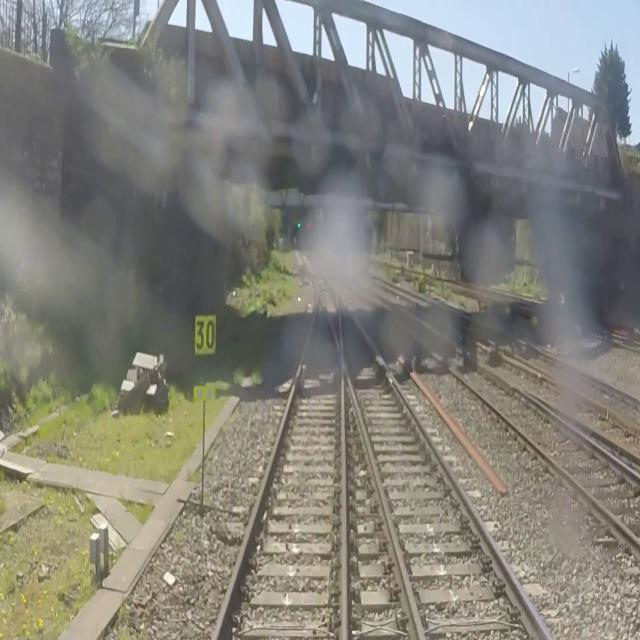rail-track: (311, 263, 546, 639), (346, 284, 640, 537), (216, 287, 342, 639), (373, 277, 640, 422)
